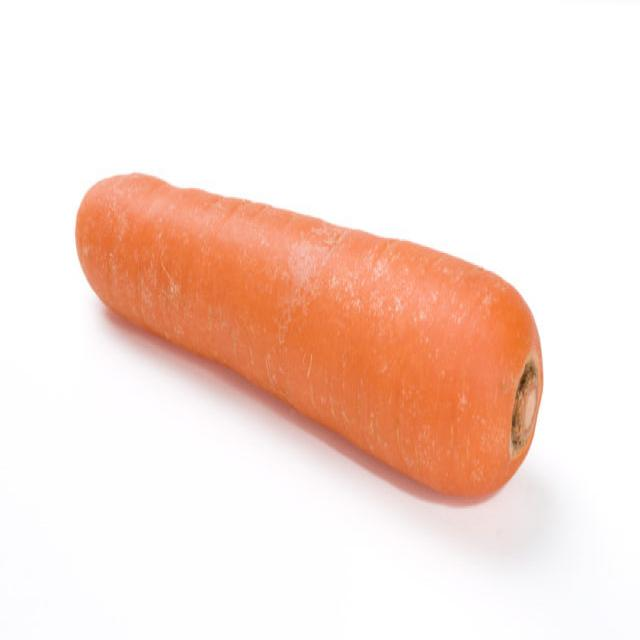Carrot: (76, 173, 548, 500)
